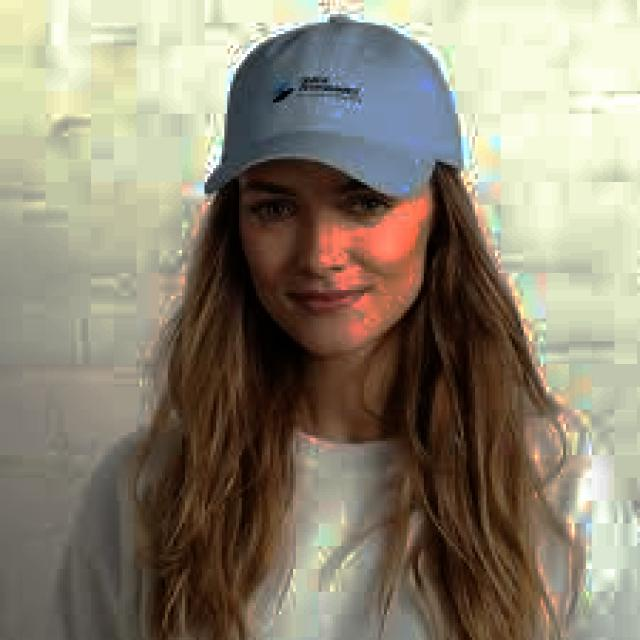TOPI: (194, 6, 466, 202)
